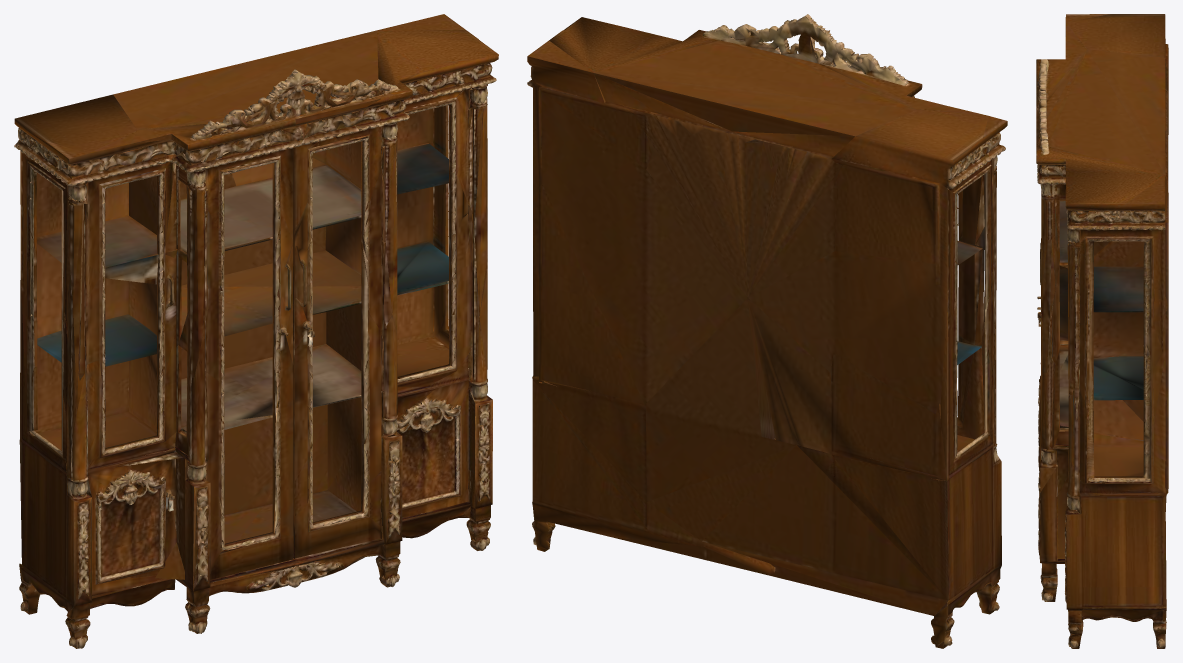
Rendered from carved_wooden_glass_display_showcase.glb.
3 renders of one model, left to right at view 1: azimuth 30°, elevation 25°; view 2: azimuth 150°, elevation 25°; view 3: azimuth 270°, elevation 25°, orthographic. The views are drawn at different scales.
Parts seen in each view (by area): view 1: output_unwrapped; view 2: output_unwrapped; view 3: output_unwrapped.
Part boxes in pixels (x1,y1,x2,y2): output_unwrapped: (14,14,498,648); output_unwrapped: (527,14,1007,648); output_unwrapped: (1036,14,1168,648).
Size of the model in its own units: 1.58 by 1.9 by 0.4657.
1 material, 1 textured.
